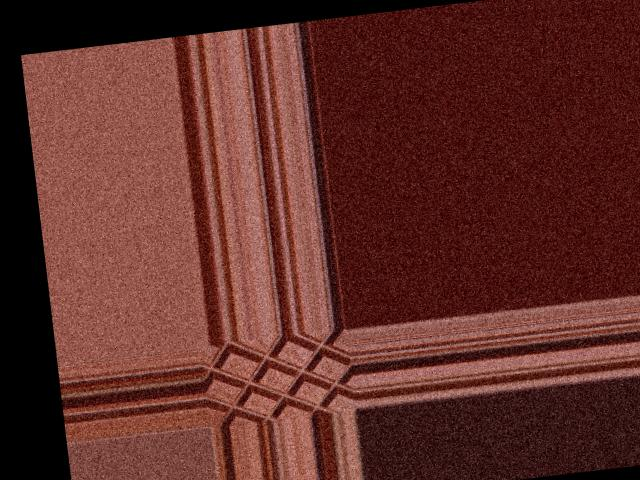chocolate: (200, 327, 352, 425)
